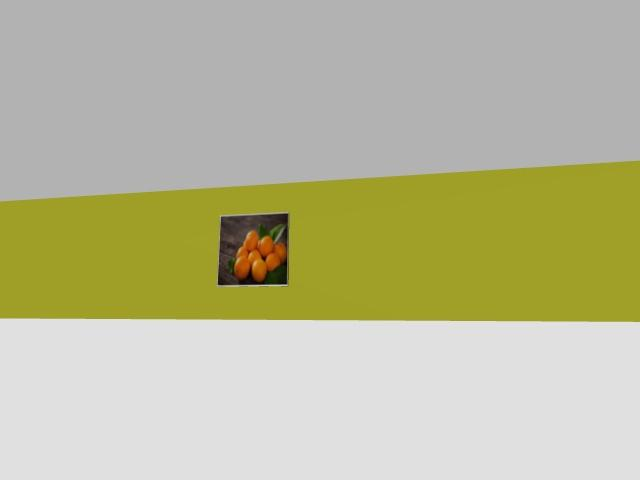orange: (234, 256, 250, 280), (251, 258, 266, 282), (258, 235, 273, 257), (244, 230, 258, 251), (266, 253, 280, 271), (274, 242, 286, 262), (248, 249, 262, 264), (236, 245, 248, 257)
